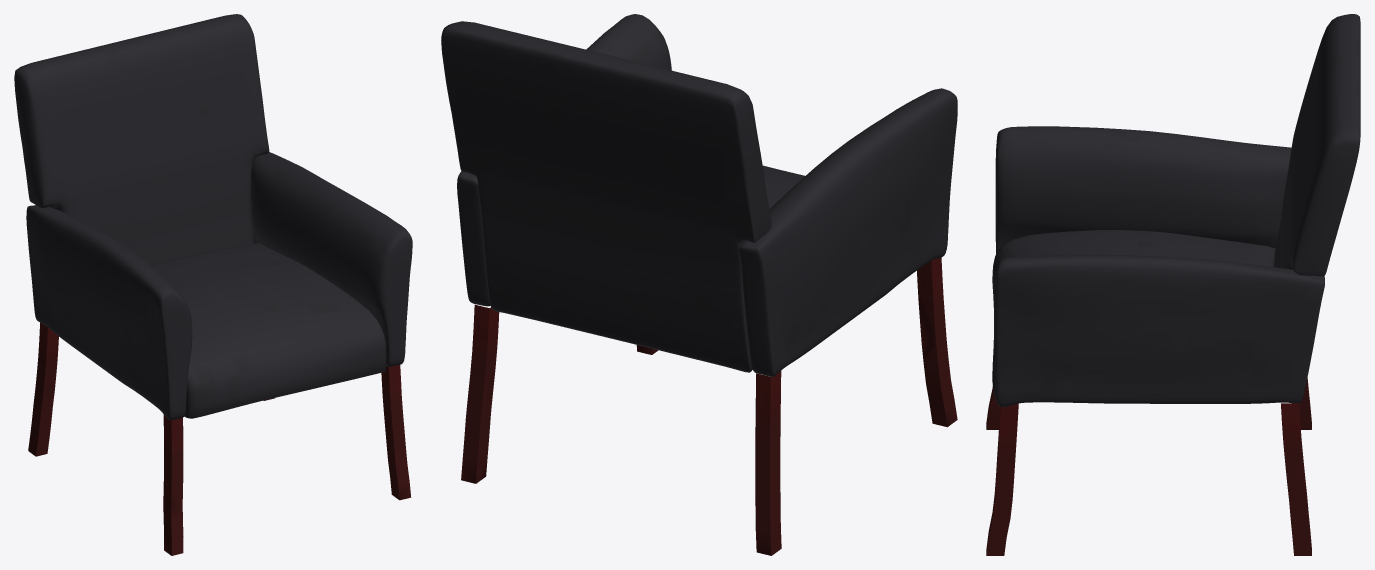
3 views of the same model, side by side, from view 1: azimuth 30°, elevation 25°; view 2: azimuth 150°, elevation 25°; view 3: azimuth 270°, elevation 25° (orthographic). The views are drawn at different scales.
Visible parts, largest first — view 1: "$APMDPJBBGBCAAAAAICBAAAAAAAAAPLMLCIPJ"; view 2: "$APMDPJBBGBCAAAAAICBAAAAAAAAAPLMLCIPJ"; view 3: "$APMDPJBBGBCAAAAAICBAAAAAAAAAPLMLCIPJ".
Part boxes in pixels (box(x1,y1,x2,y2)): "$APMDPJBBGBCAAAAAICBAAAAAAAAAPLMLCIPJ": box(14, 14, 412, 555); "$APMDPJBBGBCAAAAAICBAAAAAAAAAPLMLCIPJ": box(441, 14, 957, 555); "$APMDPJBBGBCAAAAAICBAAAAAAAAAPLMLCIPJ": box(986, 14, 1360, 555).
Bounding box in the file's own units: 0.6831 × 0.9509 × 0.7723.
1 material, 1 textured.
